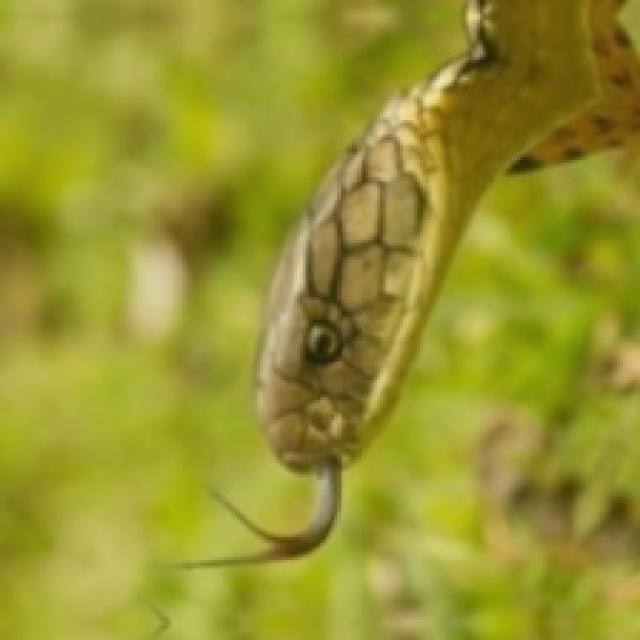king cobra: (203, 0, 637, 563)
